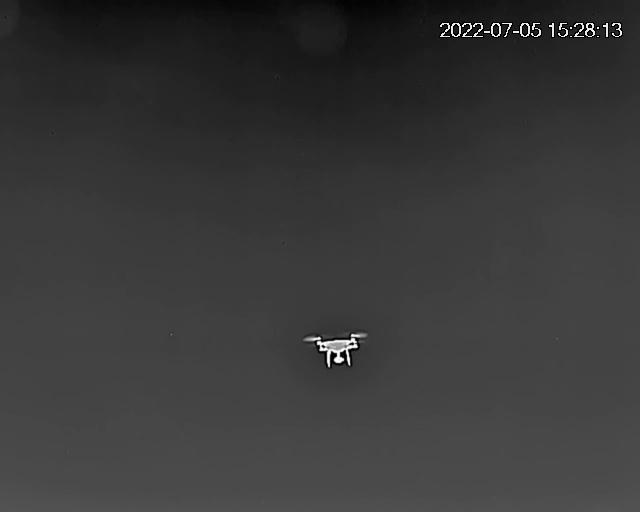DJI-Phantom: (305, 329, 370, 368)
